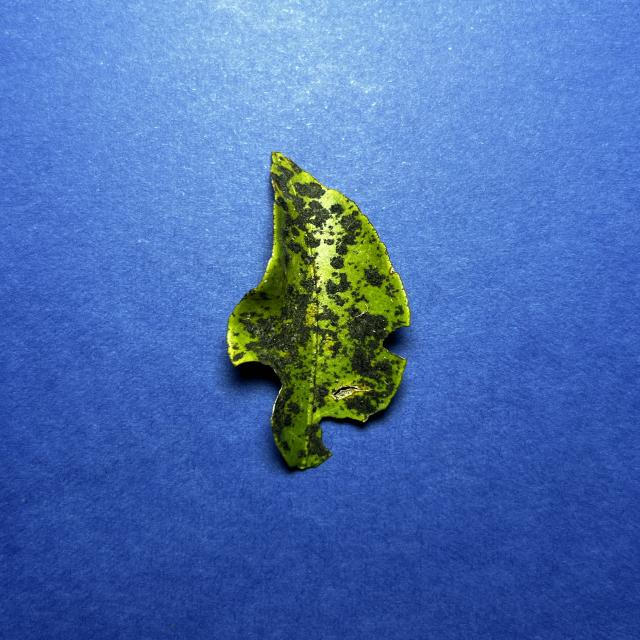sooty_mold: (227, 153, 410, 469)
